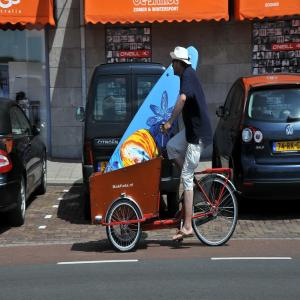Vehicle-registration-plate: (274, 142, 300, 153), (99, 160, 110, 173)
